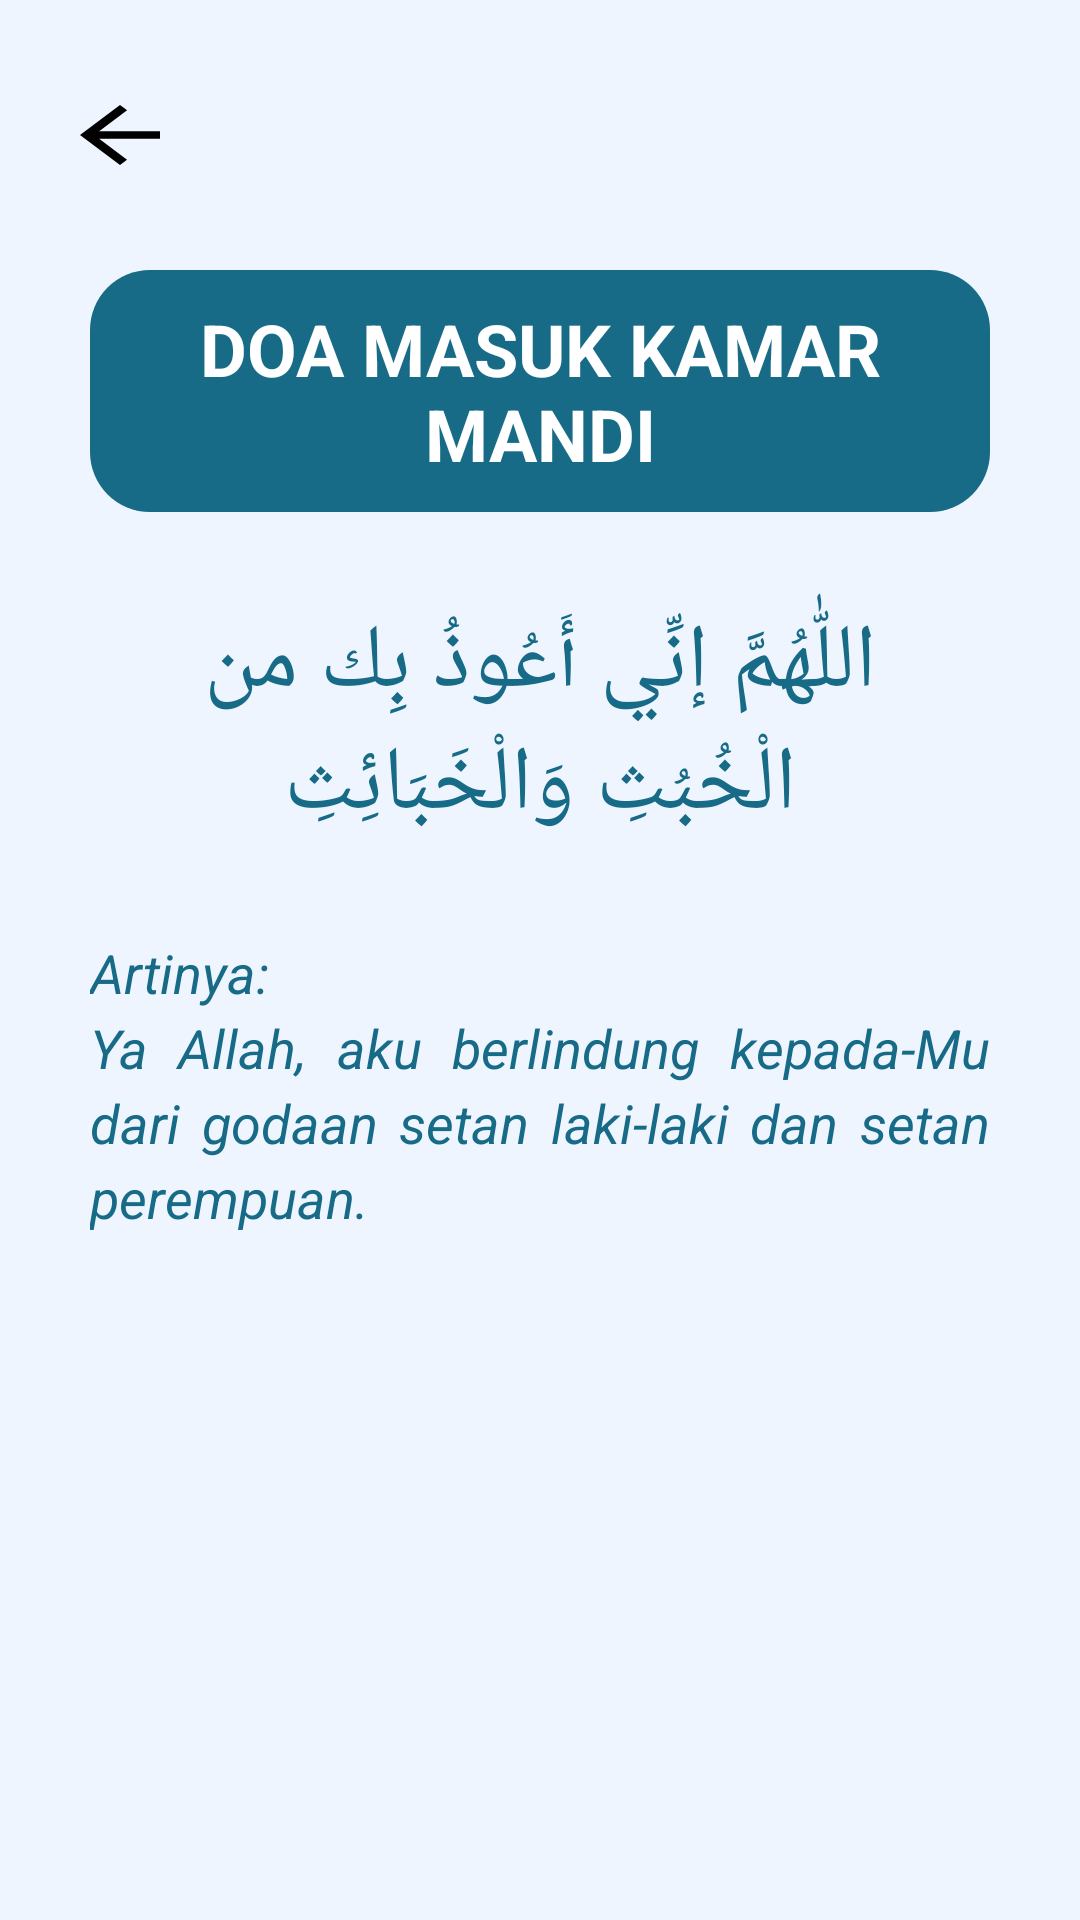

Icon click points for this 1080 x 1920 phone screenshot, format point (x, y):
arrow back: point (120, 135)
